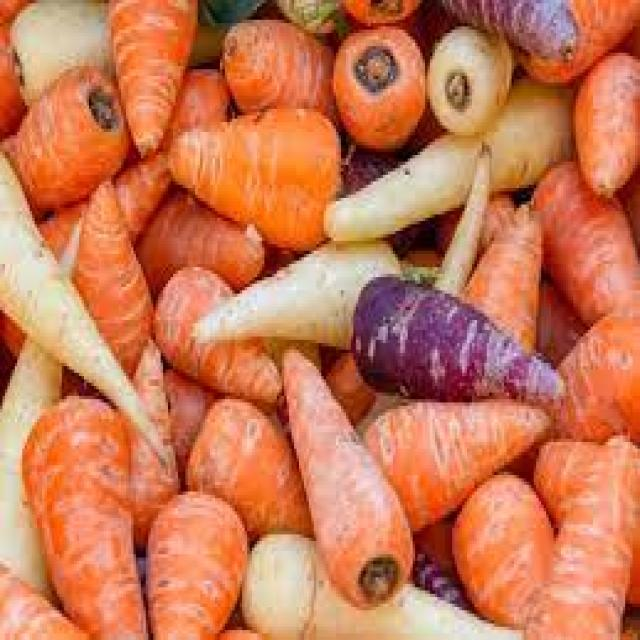Fresh_Carrot: (278, 350, 403, 608), (28, 396, 138, 640), (178, 113, 351, 238), (76, 176, 162, 385), (579, 63, 640, 220)
